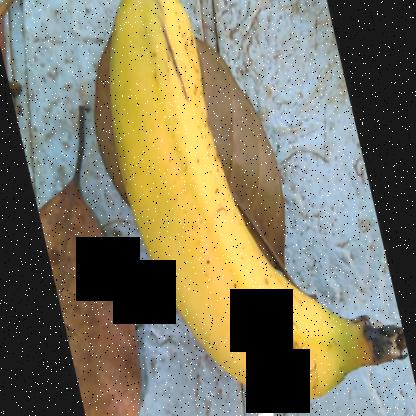ripe: (87, 0, 354, 415)
